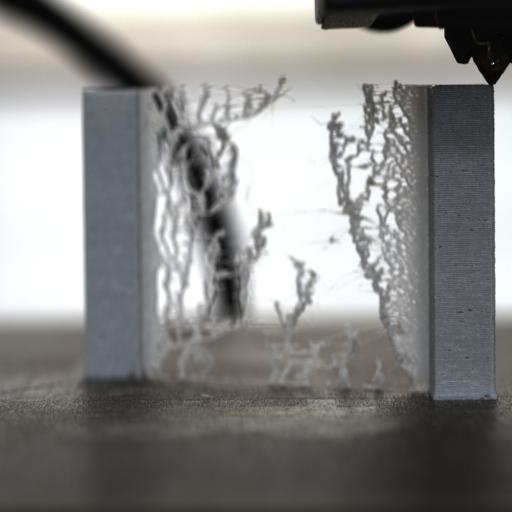stringing: (150, 78, 290, 342), (324, 81, 422, 384)
